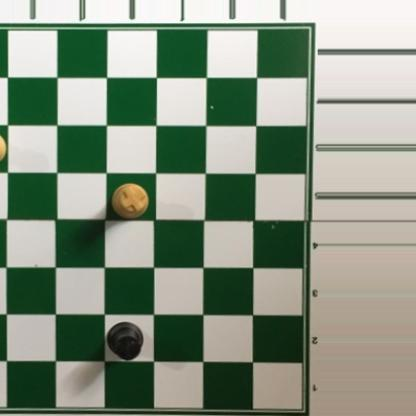black-rook: (105, 319, 145, 360)
white-rook: (105, 181, 149, 220), (0, 124, 6, 168)
